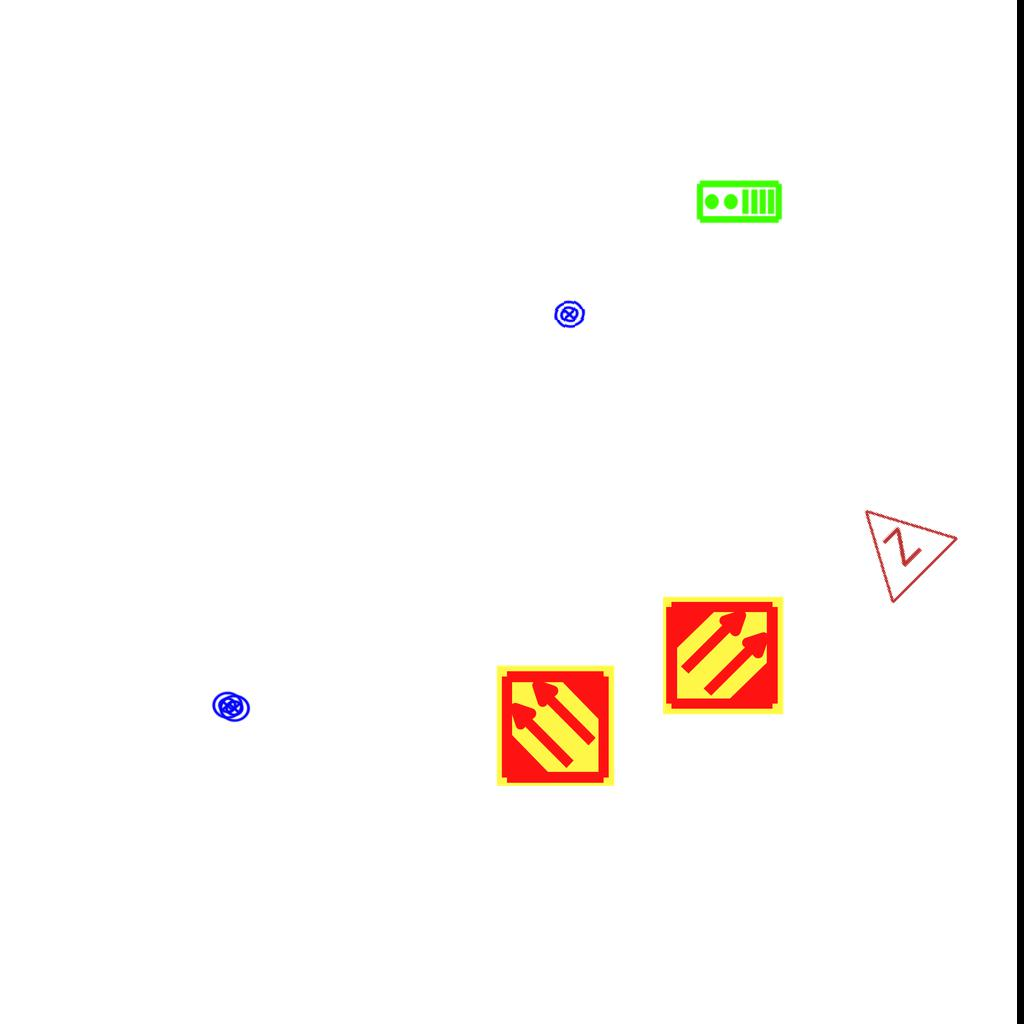ASR_Ansaugrauchmelder: (661, 593, 786, 718), (493, 663, 618, 788)
Gegensprechanlage_mit_Video: (695, 179, 783, 226)
Taster_beleuchtet: (551, 296, 588, 333), (211, 689, 244, 722), (218, 692, 251, 725)
Zimmersignalleuchte: (824, 471, 966, 613)
